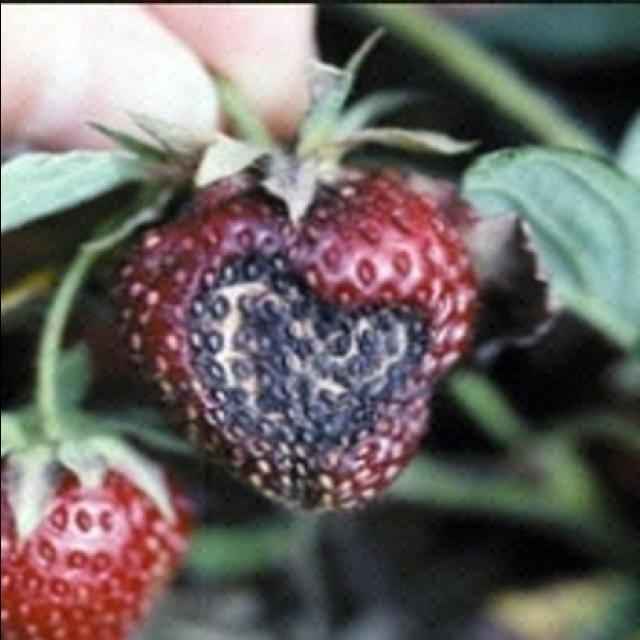Anthracnose Fruit Rot: (107, 157, 447, 514)
